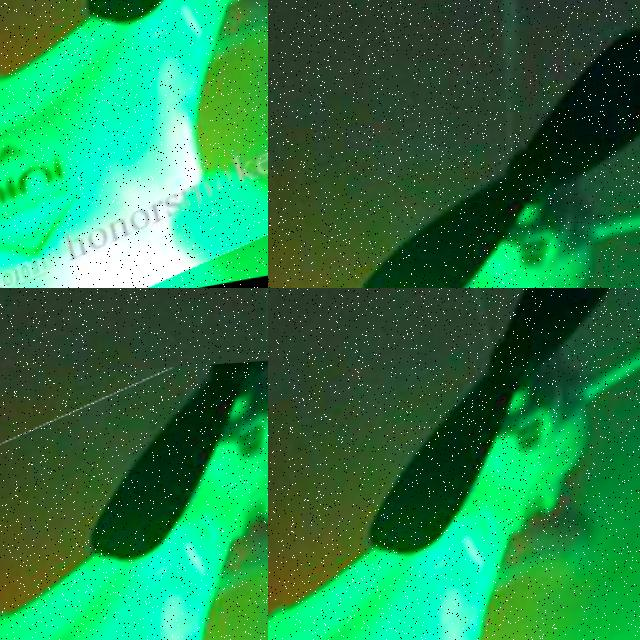drone: (268, 288, 640, 640), (0, 349, 268, 640), (0, 0, 268, 288)
